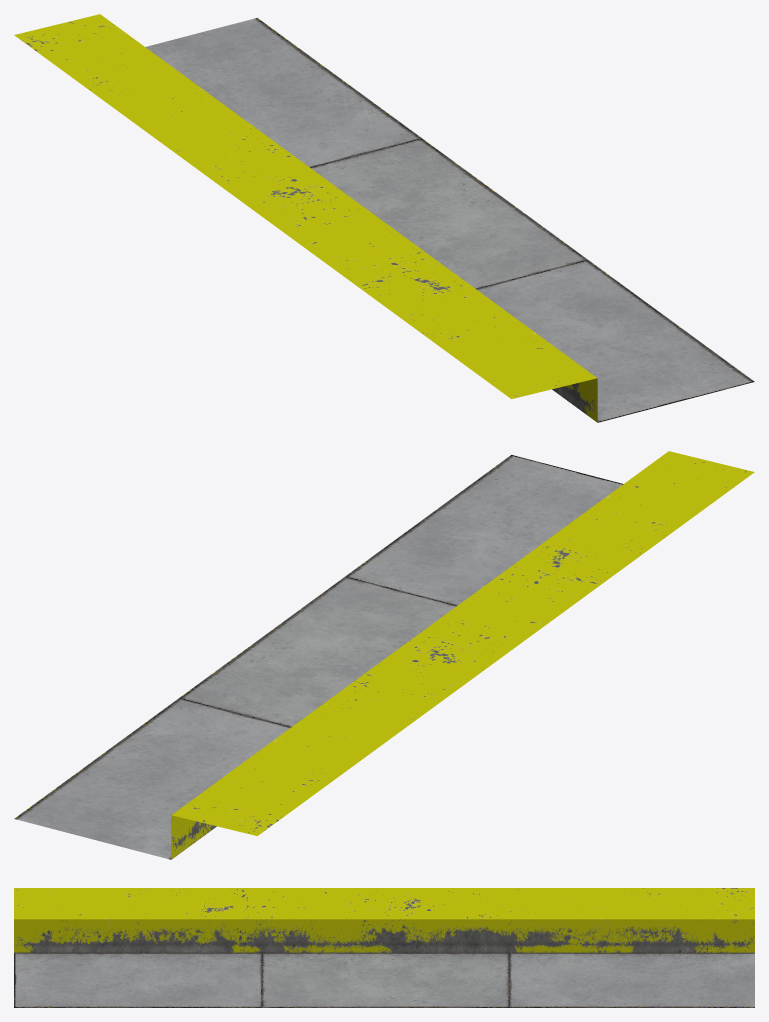
The model's file is Cordon_01.glb.
3 views of the same model, one above another, from view 1: azimuth 30°, elevation 25°; view 2: azimuth 150°, elevation 25°; view 3: azimuth 270°, elevation 25° (orthographic). The views are drawn at different scales.
Parts seen in each view (by area): view 1: defaultMaterial.009; view 2: defaultMaterial.009; view 3: defaultMaterial.009.
Boxes of the visible parts, <box> form: defaultMaterial.009: <box>14,14,754,422</box>; defaultMaterial.009: <box>14,451,754,859</box>; defaultMaterial.009: <box>14,888,754,1007</box>.
Bounding box in the file's own units: 1.69 × 0.2957 × 5.97.
1 material, 1 textured.
